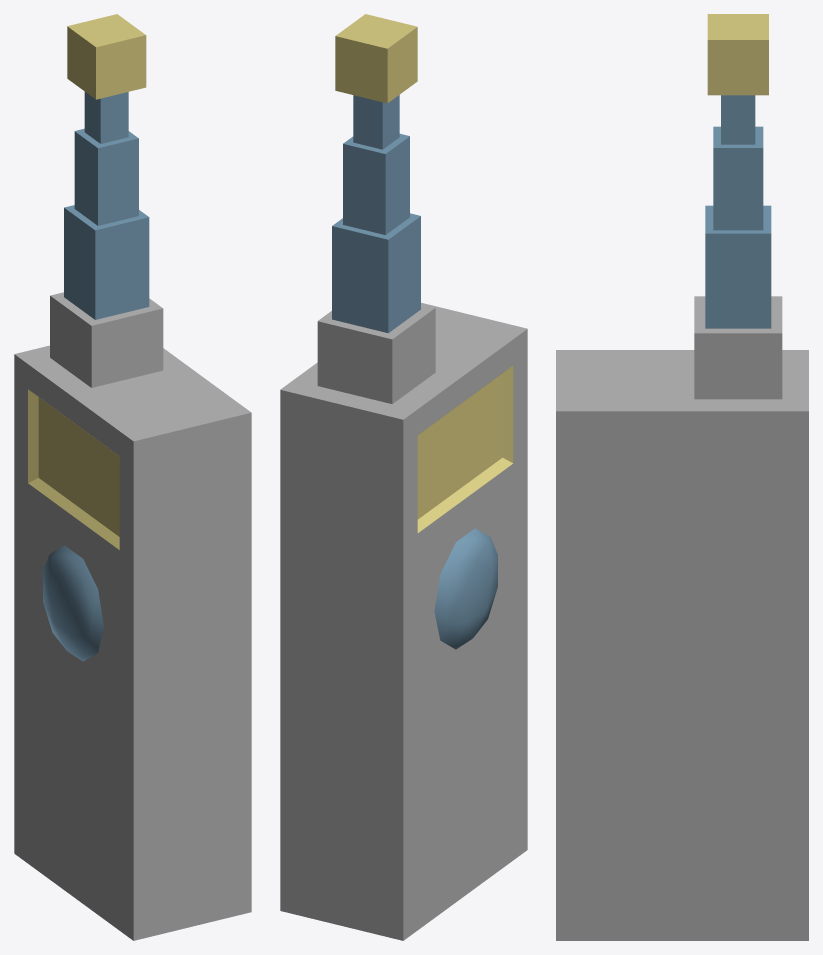
File: colress_machine.glb
3 renders of one model, left to right at view 1: azimuth 30°, elevation 25°; view 2: azimuth 150°, elevation 25°; view 3: azimuth 270°, elevation 25°, orthographic. The views are drawn at different scales.
Parts seen in each view (by area): view 1: Cube; view 2: Cube; view 3: Cube.
Part boxes in pixels (x1=…): Cube: x1=14, y1=14, x2=251, y2=940; Cube: x1=280, y1=14, x2=527, y2=940; Cube: x1=556, y1=14, x2=808, y2=940.
Bounding box in the file's own units: 2.66 × 16.19 × 4.2.
1 material, 1 textured.
